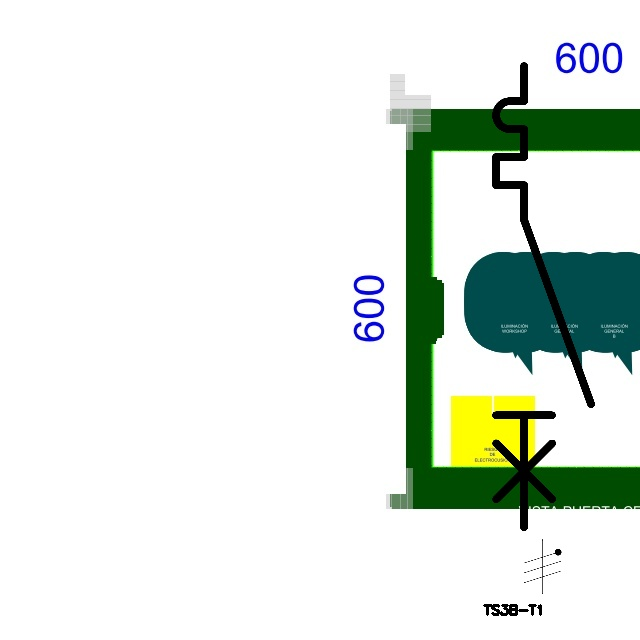interruptor_termomagnetico: (484, 54, 603, 539)
